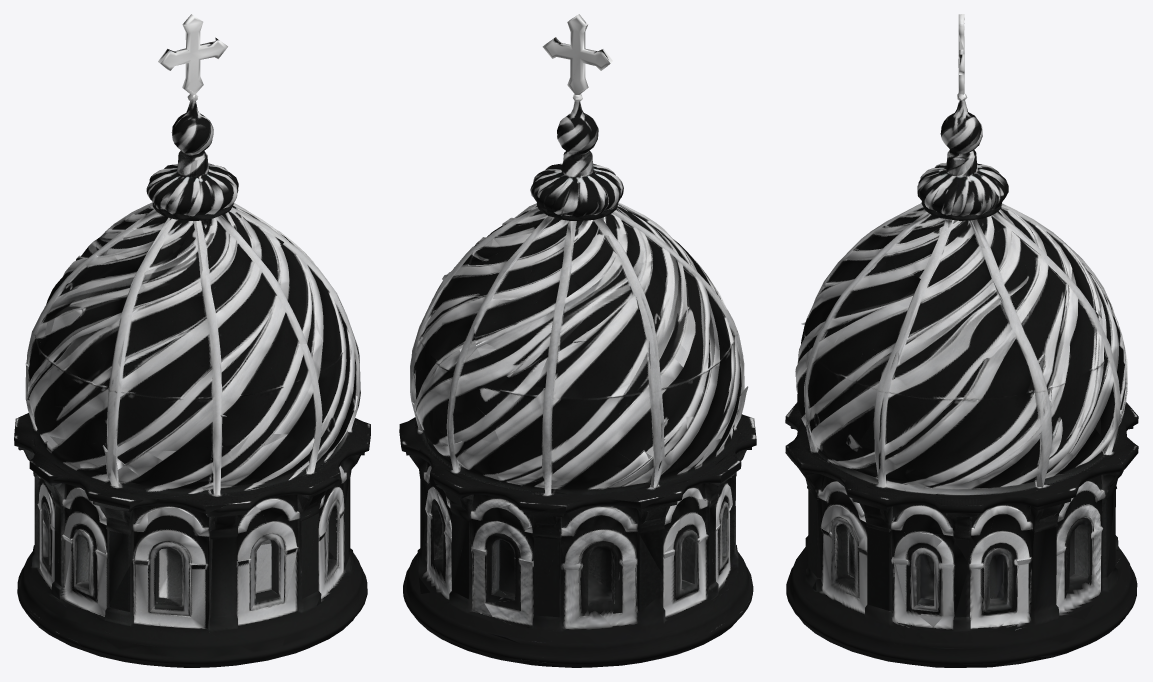
Rendered from ToitKremlin.fbx.
The picture shows the model from 3 angles, left to right: view 1: azimuth 30°, elevation 25°; view 2: azimuth 150°, elevation 25°; view 3: azimuth 270°, elevation 25°; orthographic projection.
Parts seen in each view (by area): view 1: output_unwrapped; view 2: output_unwrapped; view 3: output_unwrapped.
Part boxes in pixels (left/top/right/bottom): output_unwrapped: left=14, top=14, right=370, bottom=667; output_unwrapped: left=399, top=14, right=756, bottom=667; output_unwrapped: left=785, top=14, right=1138, bottom=667.
Size of the model in its own units: 105 by 190 by 104.
1 material, 1 textured.
